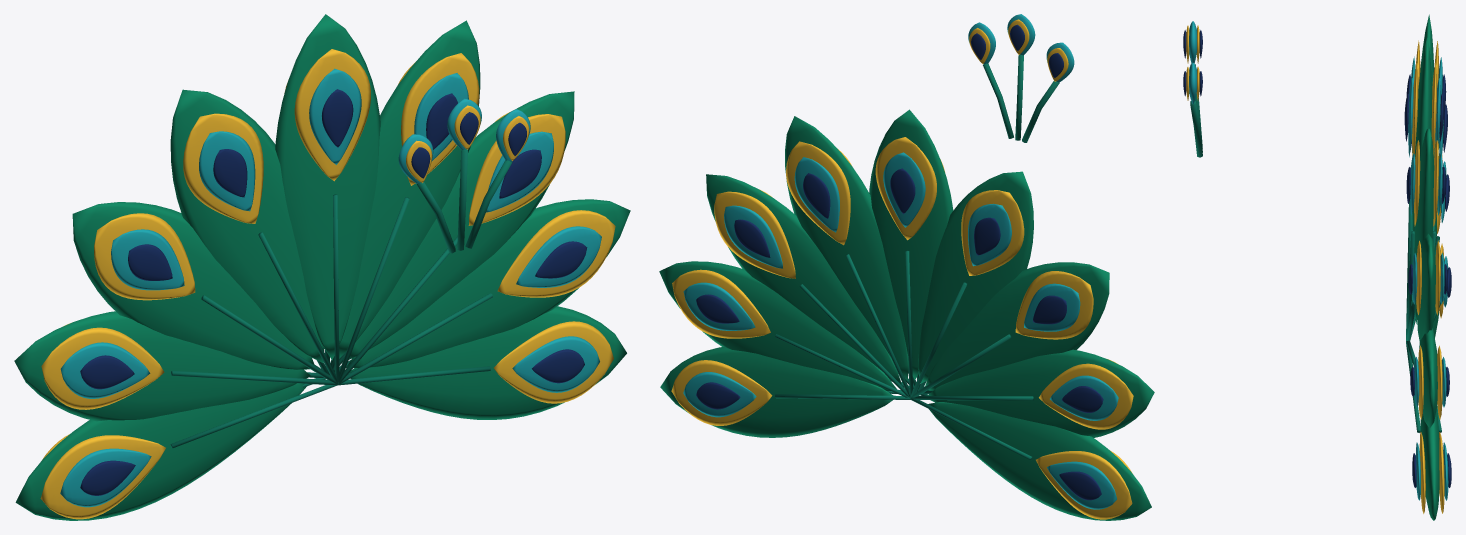
The model's file is peacock-epic-v2-accessories.fbx.
3 renders of one model, left to right at view 1: azimuth 30°, elevation 25°; view 2: azimuth 150°, elevation 25°; view 3: azimuth 270°, elevation 25°, orthographic. The views are drawn at different scales.
Parts seen in each view (by area): view 1: peacock_FanFeather_05, peacock_FanFeather_04, peacock_FanFeather_03, peacock_FanFeather_02, peacock_FanFeather_01, peacock_FanFeather_09, peacock_FanFeather_08, peacock_FanFeather_06, peacock_FanFeather_07, peacock_Crest; view 2: peacock_FanFeather_09, peacock_FanFeather_01, peacock_FanFeather_06, peacock_FanFeather_04, peacock_FanFeather_07, peacock_FanFeather_03, peacock_FanFeather_08, peacock_FanFeather_05, peacock_FanFeather_02, peacock_Crest; view 3: peacock_FanFeather_06, peacock_FanFeather_05, peacock_FanFeather_09, peacock_FanFeather_07, peacock_FanFeather_08, peacock_Crest, peacock_FanFeather_04, peacock_FanFeather_01, peacock_FanFeather_02, peacock_FanFeather_03.
Part boxes in pixels (left/top/right/bottom): peacock_FanFeather_05: left=275, top=14, right=380, bottom=383; peacock_FanFeather_04: left=170, top=89, right=337, bottom=384; peacock_FanFeather_03: left=72, top=202, right=337, bottom=384; peacock_FanFeather_02: left=14, top=311, right=337, bottom=421; peacock_FanFeather_01: left=15, top=378, right=337, bottom=520; peacock_FanFeather_09: left=338, top=306, right=626, bottom=419; peacock_FanFeather_08: left=334, top=199, right=630, bottom=384; peacock_FanFeather_06: left=330, top=20, right=480, bottom=383; peacock_FanFeather_07: left=333, top=91, right=574, bottom=384; peacock_Crest: left=398, top=98, right=530, bottom=253; peacock_FanFeather_09: left=660, top=347, right=910, bottom=437; peacock_FanFeather_01: left=910, top=394, right=1151, bottom=520; peacock_FanFeather_06: left=785, top=116, right=917, bottom=396; peacock_FanFeather_04: left=910, top=171, right=1033, bottom=398; peacock_FanFeather_07: left=706, top=174, right=917, bottom=397; peacock_FanFeather_03: left=910, top=262, right=1109, bottom=397; peacock_FanFeather_08: left=659, top=261, right=909, bottom=397; peacock_FanFeather_05: left=869, top=109, right=953, bottom=395; peacock_FanFeather_02: left=911, top=349, right=1154, bottom=437; peacock_Crest: left=968, top=14, right=1074, bottom=142; peacock_FanFeather_06: left=1406, top=128, right=1446, bottom=338; peacock_FanFeather_05: left=1404, top=38, right=1444, bottom=334; peacock_FanFeather_09: left=1406, top=343, right=1451, bottom=520; peacock_FanFeather_07: left=1406, top=233, right=1447, bottom=340; peacock_FanFeather_08: left=1406, top=328, right=1449, bottom=428; peacock_Crest: left=1183, top=21, right=1202, bottom=157; peacock_FanFeather_04: left=1406, top=14, right=1446, bottom=230; peacock_FanFeather_01: left=1410, top=243, right=1451, bottom=340; peacock_FanFeather_02: left=1411, top=153, right=1449, bottom=305; peacock_FanFeather_03: left=1410, top=104, right=1447, bottom=230.
Bounding box in the file's own units: 2071 × 1509 × 927.
1 material, 1 textured.
